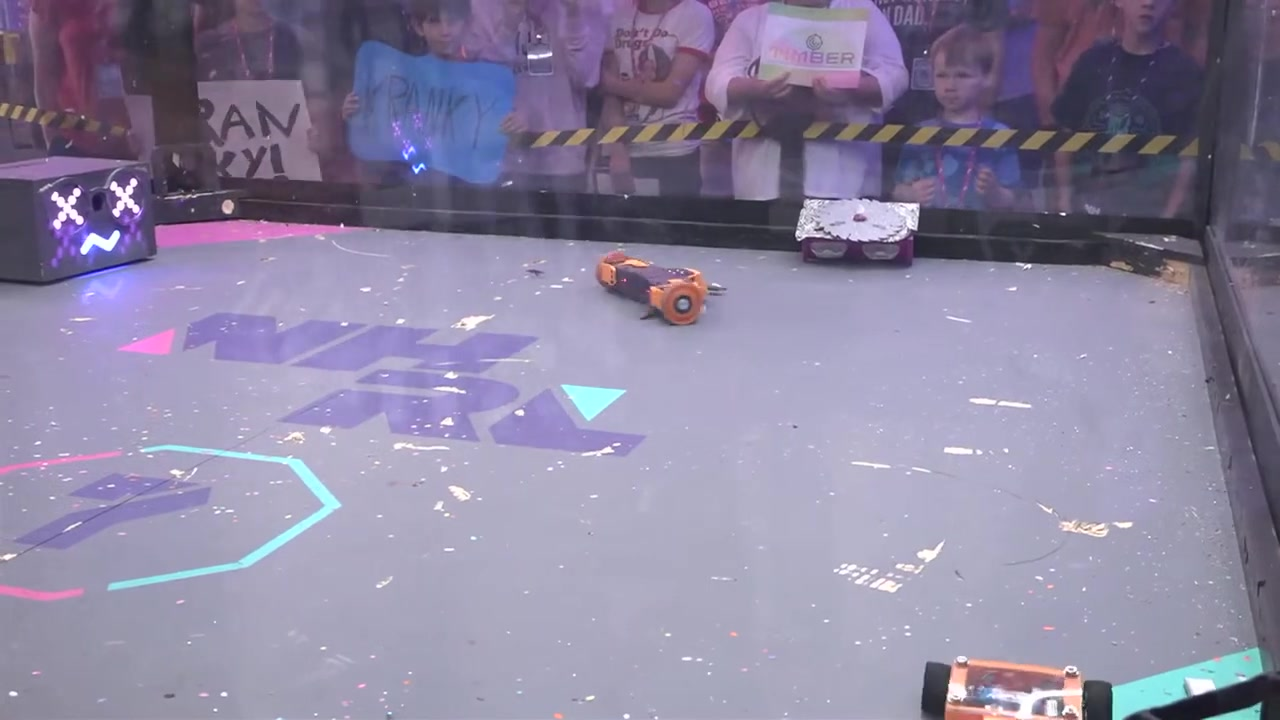combatbot: (922, 655, 1112, 718), (797, 198, 918, 271), (594, 253, 704, 328)
housebot: (0, 158, 160, 285)
